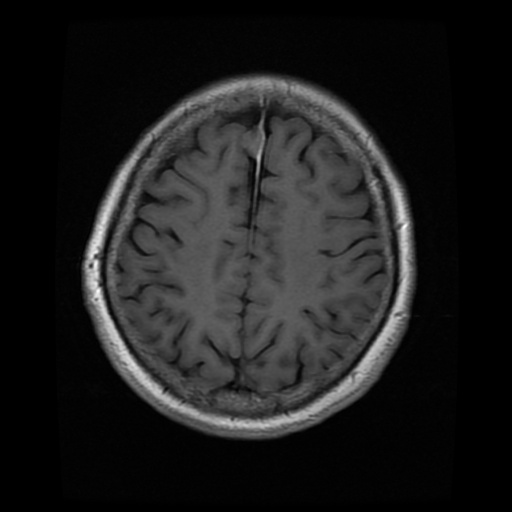meningioma: (245, 126, 261, 155)
